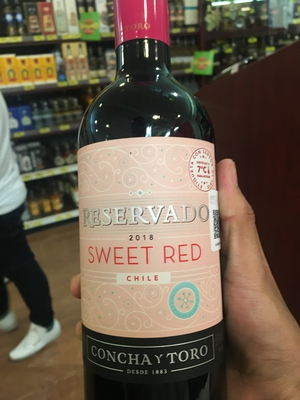reservado sweet red: (73, 27, 223, 400)
